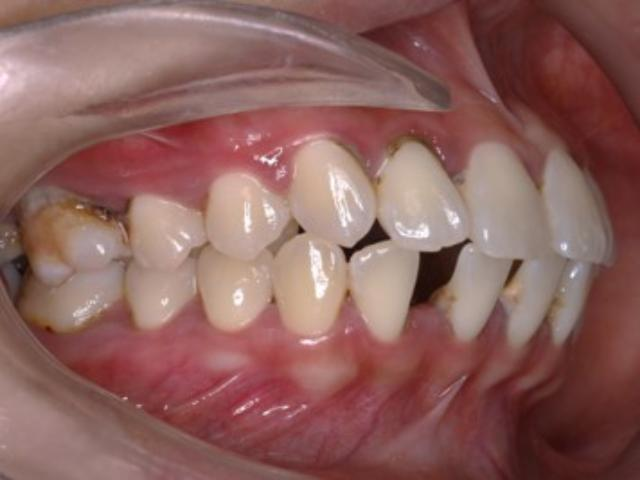canine class II full class: (192, 130, 382, 344)
molar class II 3/4: (12, 180, 130, 360)
